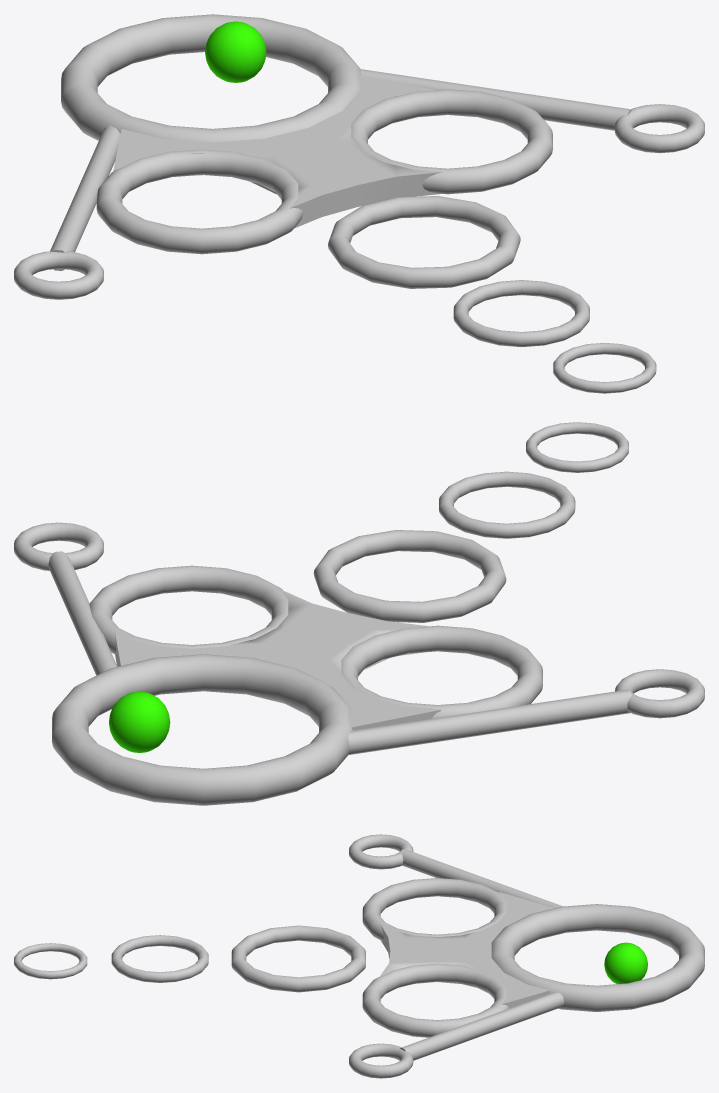
Rendered from Student2_xLab_Daniel.fbx.
3 renders of one model, top to bottom at view 1: azimuth 30°, elevation 25°; view 2: azimuth 150°, elevation 25°; view 3: azimuth 270°, elevation 25°, orthographic. The views are drawn at different scales.
Parts seen in each view (by area): view 1: Torus, Cube, Torus_2, Torus_1, Ring_1, Ring, Cylinder_1, Torus_3, Torus_5, Cylinder, Sphere, Ring_2; view 2: Torus, Cube, Ring_1, Torus_2, Cylinder, Torus_1, Ring, Sphere, Cylinder_1, Torus_3, Torus_5, Ring_2; view 3: Torus, Cube, Torus_1, Ring_1, Torus_2, Cylinder_1, Ring, Cylinder, Torus_5, Torus_3, Sphere, Ring_2.
Part boxes in pixels (x1,y1,x2,y2): Torus: (61, 14, 361, 142); Cube: (113, 75, 442, 228); Torus_2: (96, 149, 303, 254); Torus_1: (351, 89, 552, 194); Ring_1: (328, 196, 520, 288); Ring: (453, 280, 589, 346); Cylinder_1: (360, 69, 631, 130); Torus_3: (14, 251, 103, 299); Torus_5: (615, 104, 704, 153); Cylinder: (50, 125, 120, 270); Sphere: (205, 21, 266, 82); Ring_2: (553, 343, 656, 393); Torus: (52, 654, 352, 805); Cube: (115, 588, 440, 730); Ring_1: (313, 530, 506, 622); Torus_2: (341, 625, 542, 718); Cylinder: (348, 689, 631, 754); Torus_1: (89, 565, 288, 654); Ring: (439, 471, 575, 538); Sphere: (109, 691, 170, 752); Cylinder_1: (48, 551, 117, 675); Torus_3: (615, 669, 704, 718); Torus_5: (14, 522, 103, 570); Ring_2: (526, 422, 628, 472); Torus: (491, 904, 704, 1011); Cube: (379, 892, 553, 1008); Torus_1: (362, 963, 509, 1037); Ring_1: (231, 925, 365, 992); Torus_2: (362, 878, 506, 940); Cylinder_1: (400, 992, 564, 1060); Ring: (111, 935, 208, 982); Cylinder: (400, 849, 563, 908); Torus_5: (349, 1043, 413, 1078); Torus_3: (349, 834, 413, 869); Sphere: (604, 942, 647, 984); Ring_2: (14, 943, 87, 979).
Bounding box in the file's own units: 4060 × 323 × 5010.
